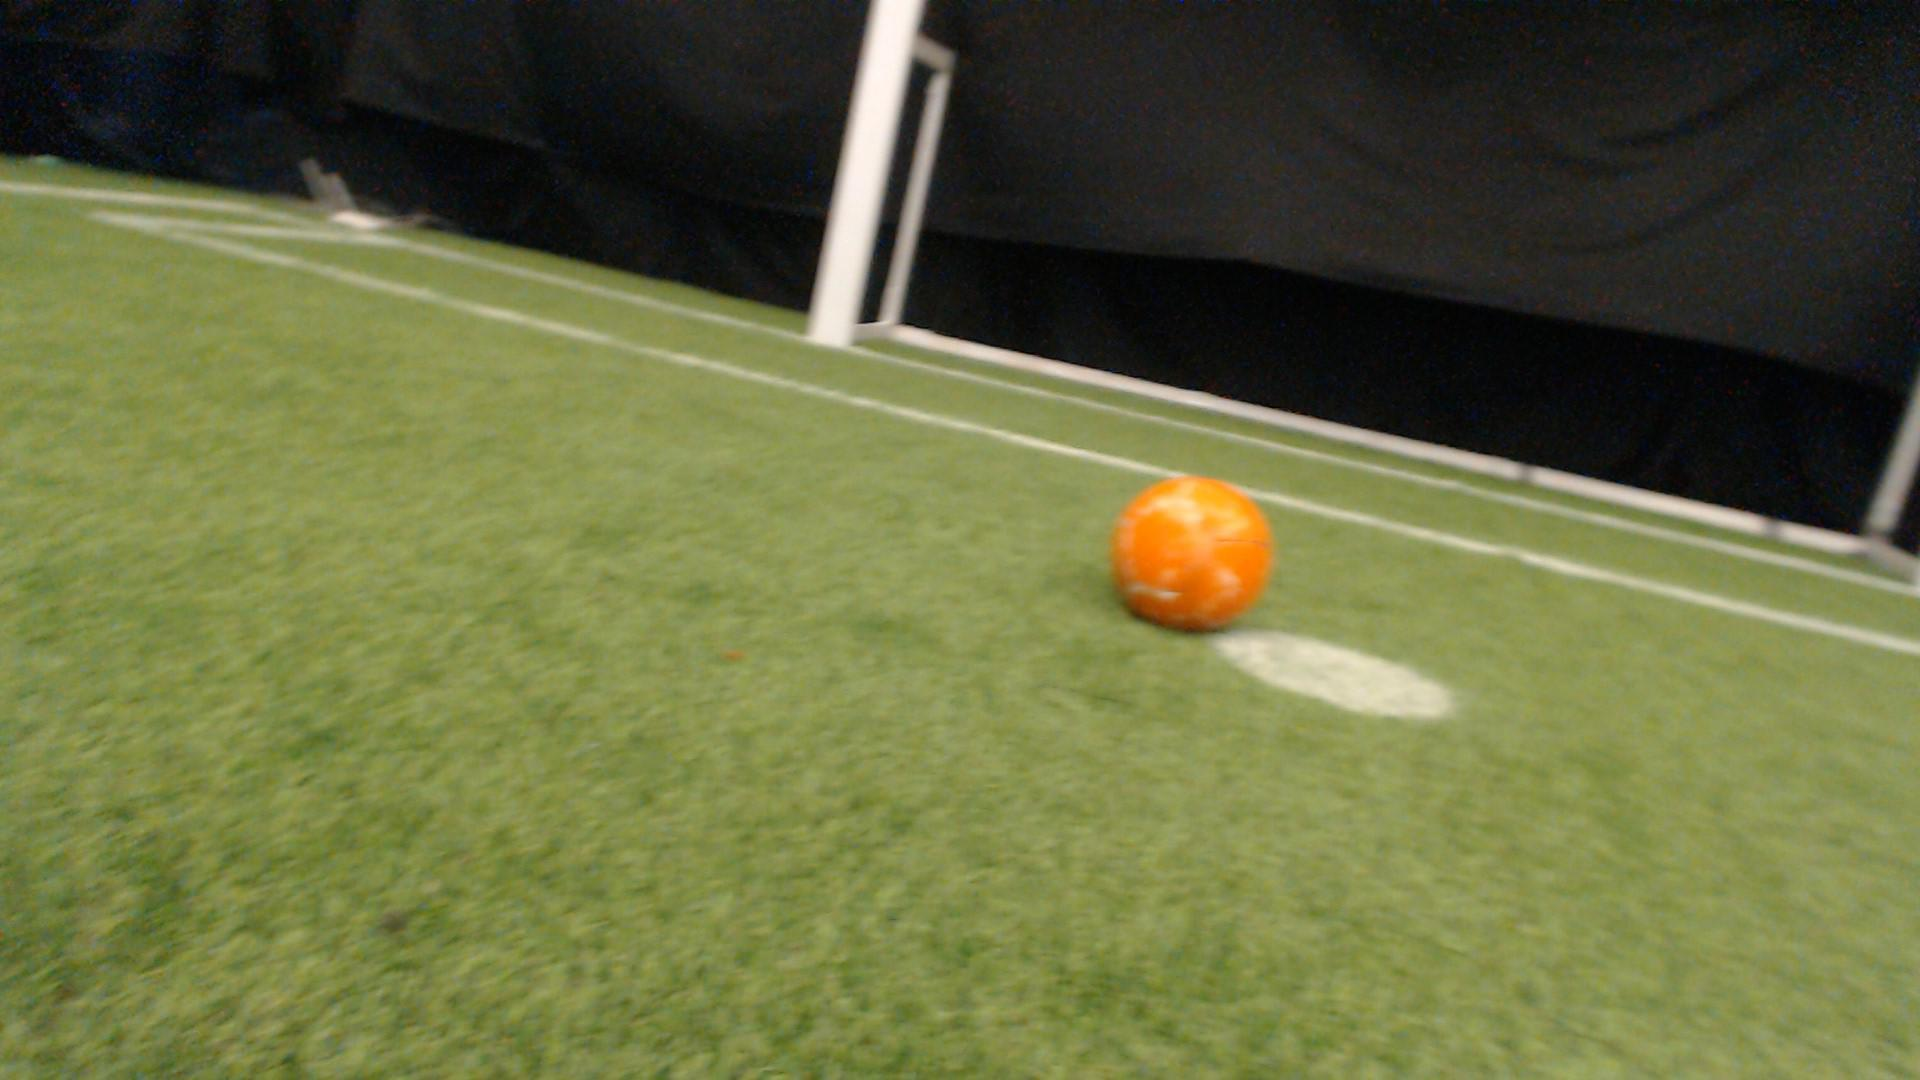bola: (1101, 455, 1296, 640)
